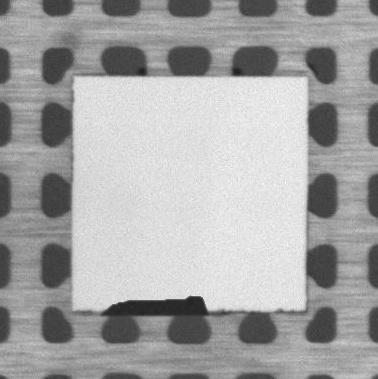DIE_BROKEN: (108, 294, 210, 319)
